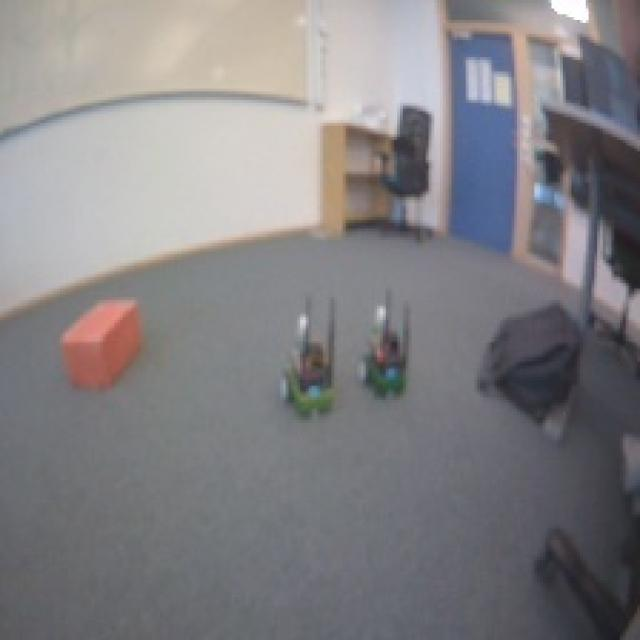robot: (278, 336, 340, 418), (353, 328, 414, 402)
target: (57, 294, 143, 389)
